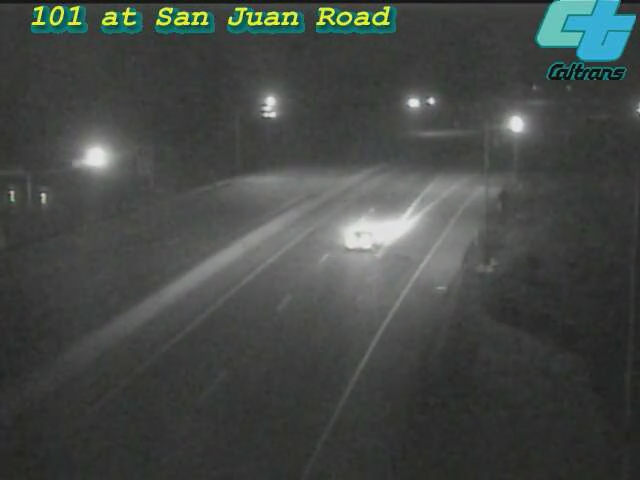vehicle: (319, 195, 399, 275), (489, 99, 539, 149)
